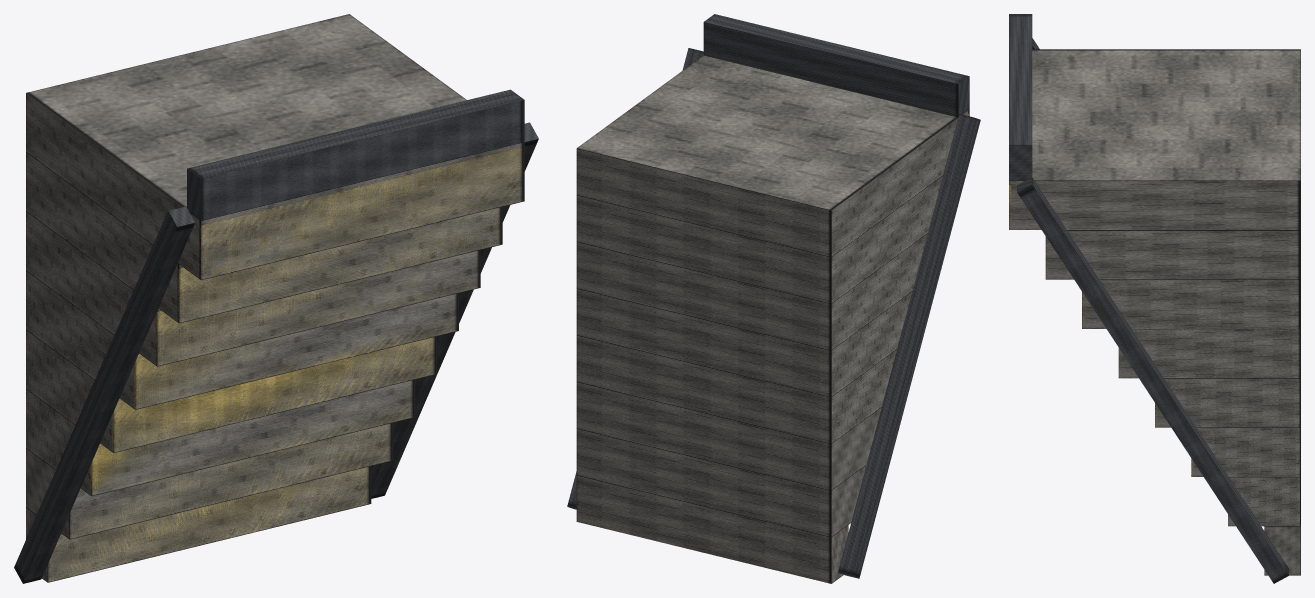
File: shared_stair_flight.obj
3 renders of one model, left to right at view 1: azimuth 30°, elevation 25°; view 2: azimuth 150°, elevation 25°; view 3: azimuth 270°, elevation 25°, orthographic. The views are drawn at different scales.
Parts seen in each view (by area): view 1: shared_stair_flight; view 2: shared_stair_flight; view 3: shared_stair_flight.
Boxes of the visible parts, x1=… form: shared_stair_flight: x1=14, y1=14, x2=538, y2=583; shared_stair_flight: x1=567, y1=14, x2=980, y2=583; shared_stair_flight: x1=1009, y1=14, x2=1300, y2=583.
Bounding box in the file's own units: 1.79 × 2.44 × 1.5.
3 materials, 3 textured.
